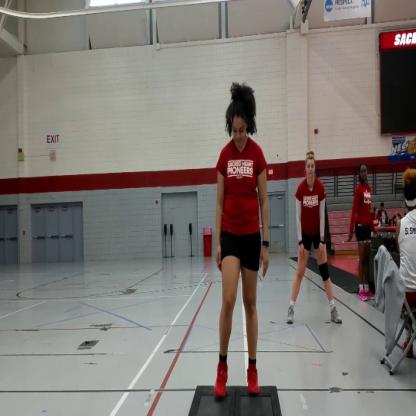lateral_flexion_normal: (214, 80, 274, 405)
stance_width_normal: (216, 135, 275, 402)
